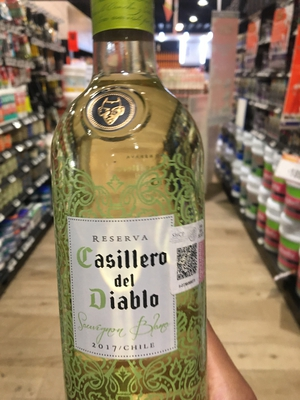casillero del diablo sauvignon blanc: (47, 5, 211, 385)
